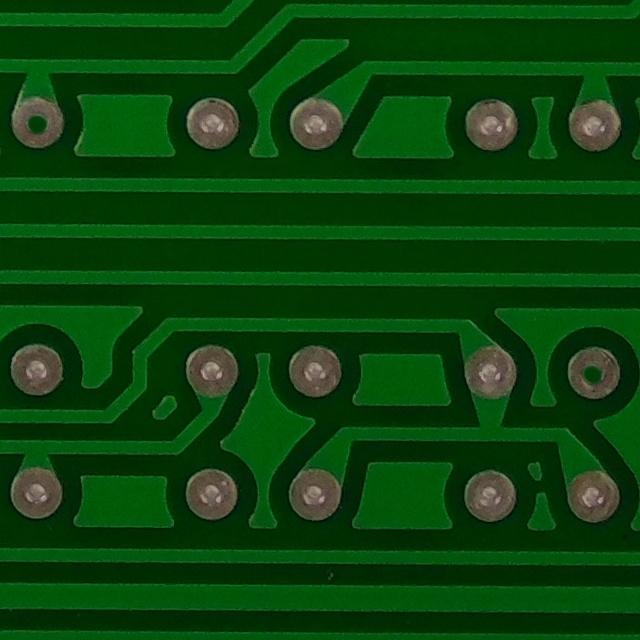missing_hole: (7, 92, 71, 157), (567, 344, 618, 406)
